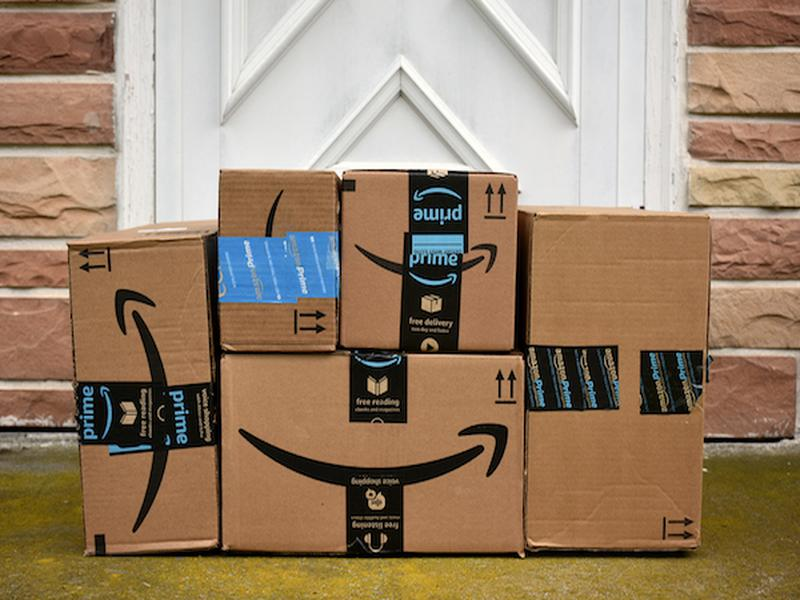package: (524, 201, 719, 562), (215, 351, 530, 562), (57, 216, 224, 565), (339, 165, 521, 354), (210, 158, 345, 361)
